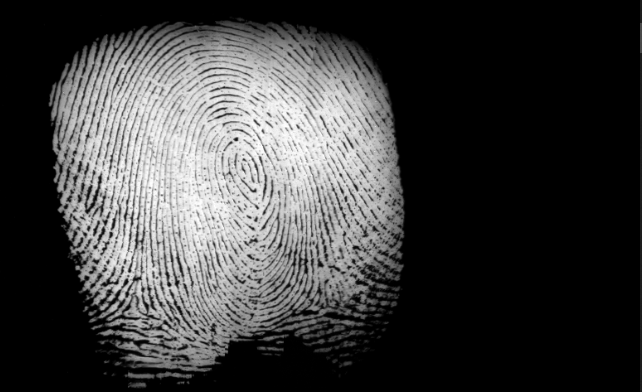nucelo: (228, 148, 262, 191)
verticilo: (118, 287, 145, 318), (314, 294, 340, 318)
